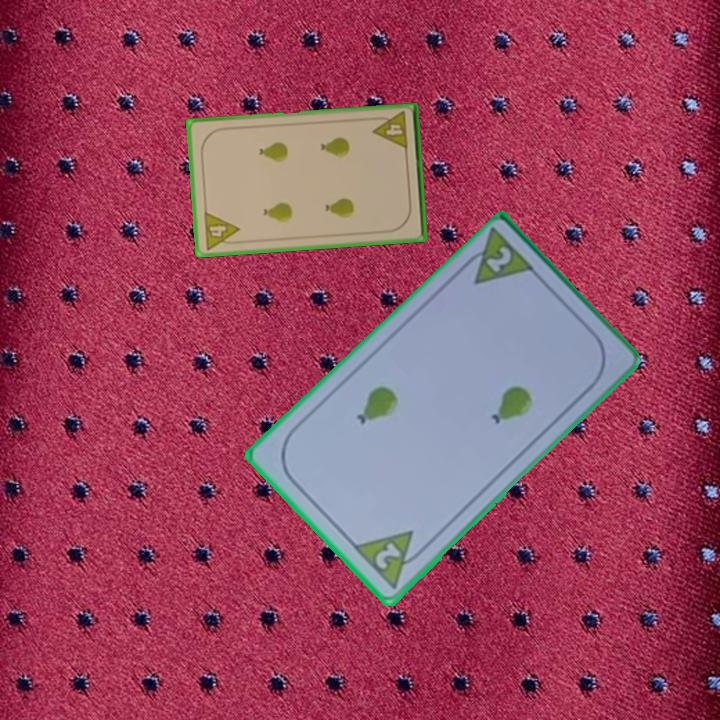2p: (349, 527, 430, 593), (481, 243, 515, 277)
4p: (200, 208, 243, 252), (369, 108, 411, 153)
